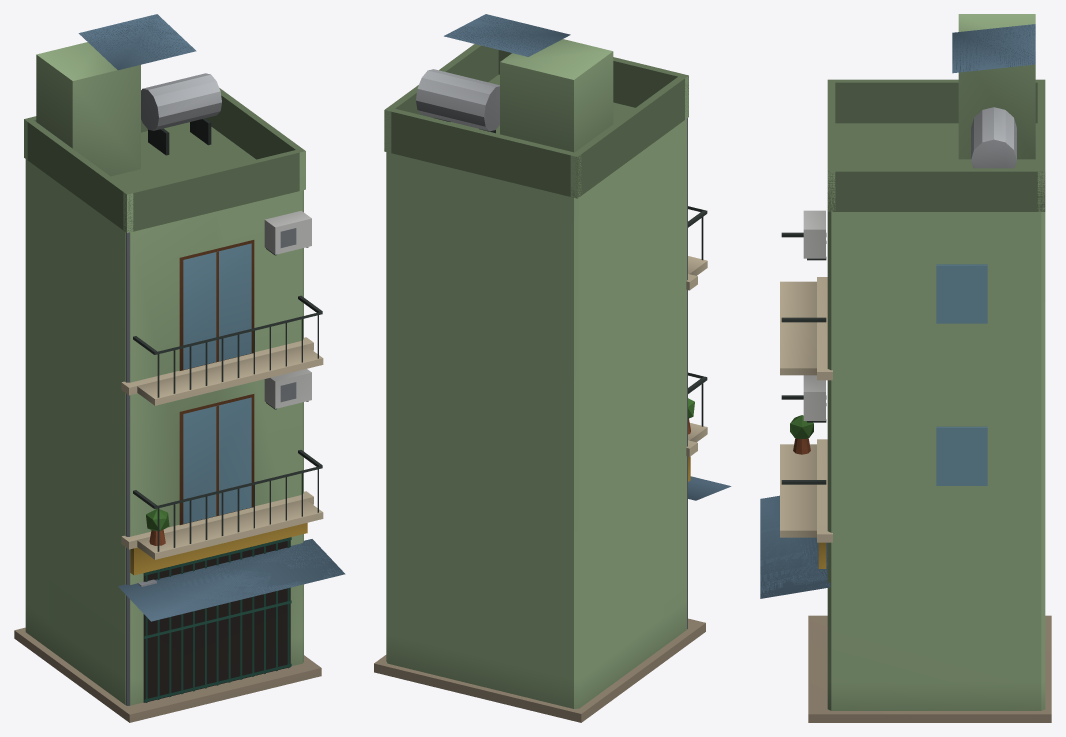
Rendered from nha-pho-b.glb.
The picture shows the model from 3 angles, left to right: view 1: azimuth 30°, elevation 25°; view 2: azimuth 150°, elevation 25°; view 3: azimuth 270°, elevation 25°; orthographic projection. The views are drawn at different scales.
Parts seen in each view (by area): view 1: nha-pho-b; view 2: nha-pho-b; view 3: nha-pho-b.
Part boxes in pixels (x1,y1,x2,y2): nha-pho-b: (14, 14, 345, 722); nha-pho-b: (374, 14, 731, 722); nha-pho-b: (760, 14, 1051, 722).
Size of the model in its own units: 3.7 by 10.85 by 4.55.
